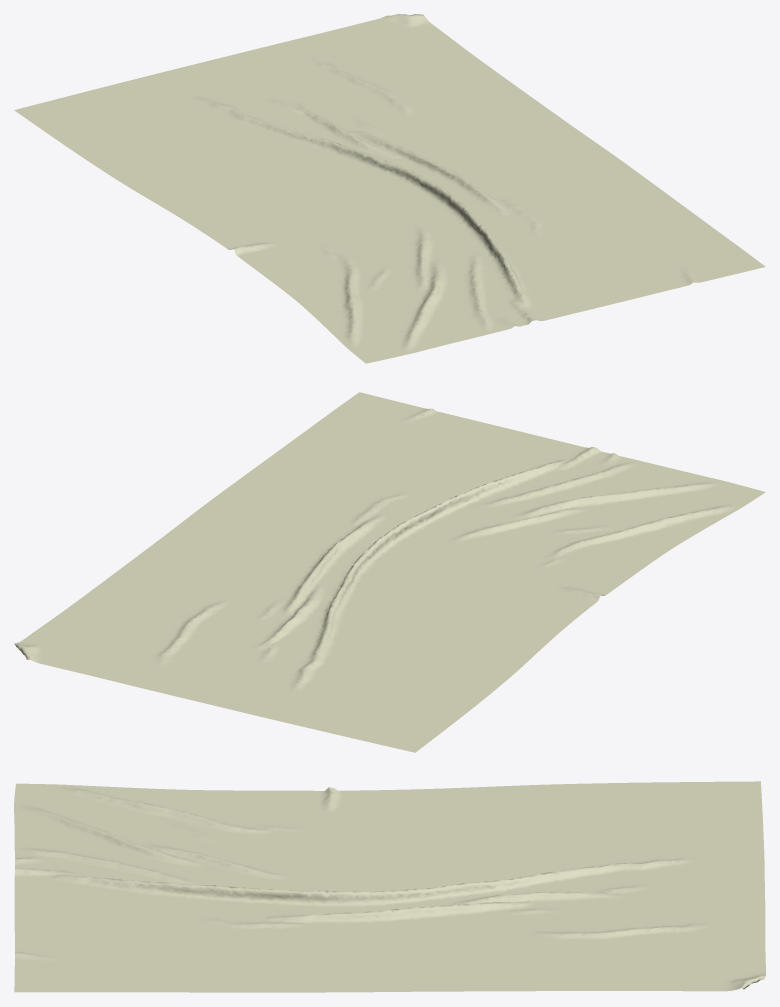
File: Carpet1.fbx
3 views of the same model, one above another, from view 1: azimuth 30°, elevation 25°; view 2: azimuth 150°, elevation 25°; view 3: azimuth 270°, elevation 25° (orthographic). The views are drawn at different scales.
Parts seen in each view (by area): view 1: Carpet1; view 2: Carpet1; view 3: Carpet1.
Boxes of the visible parts, x1,y1,x2,y2 form: Carpet1: (14,14,765,363); Carpet1: (14,392,765,752); Carpet1: (14,781,765,992).
Bounding box in the file's own units: 179 × 4.32 × 269.
